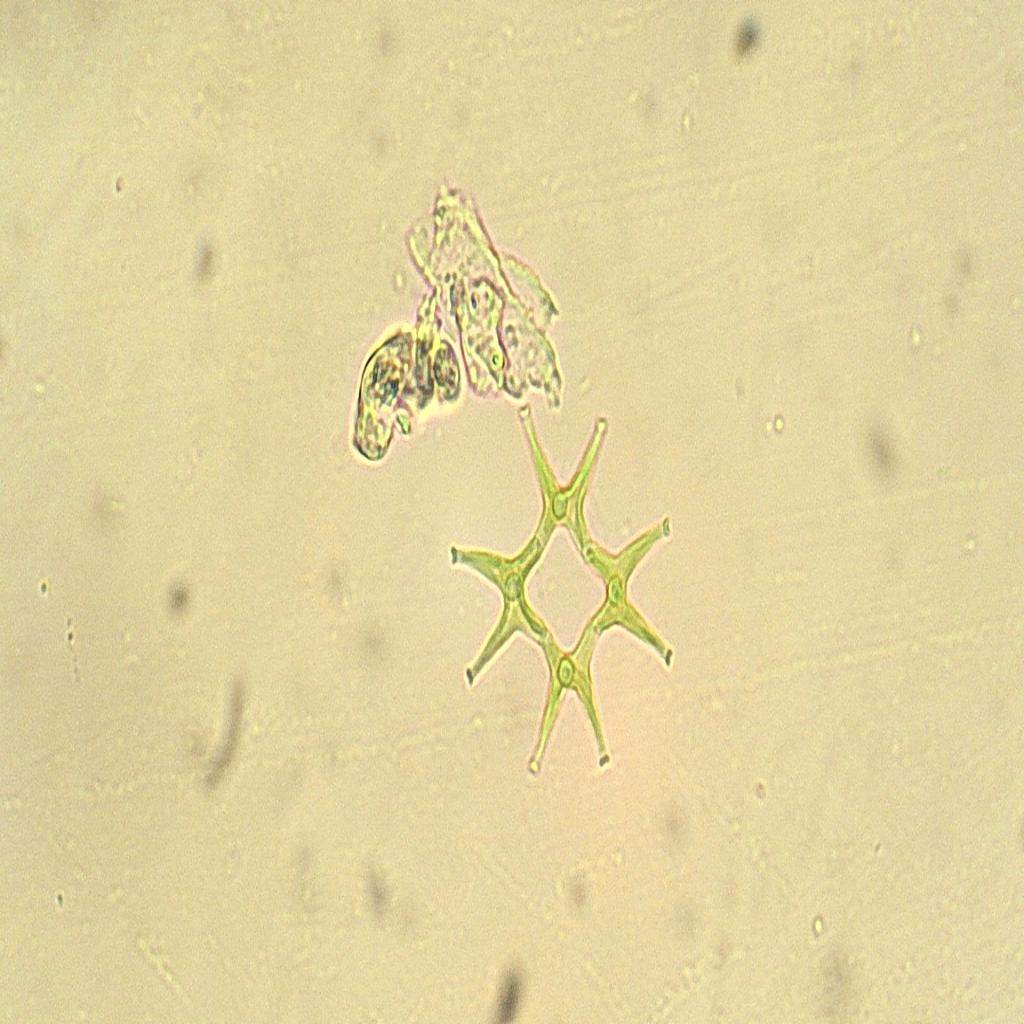Pediastrum_75O: (438, 380, 695, 811)
